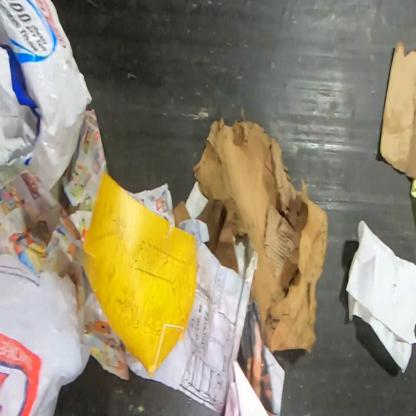cardboard: (190, 115, 330, 357), (378, 36, 415, 181), (172, 199, 191, 228)
soft_plastic: (0, 0, 94, 193), (0, 269, 92, 415)
